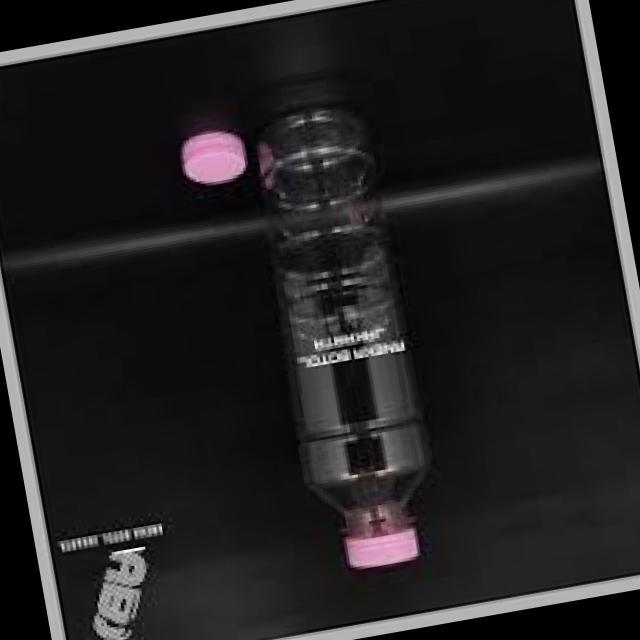good: (198, 84, 479, 598)
